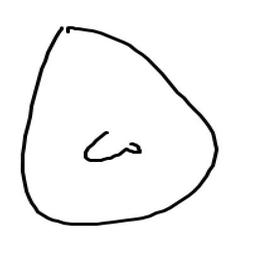nose: (67, 122, 152, 163)
